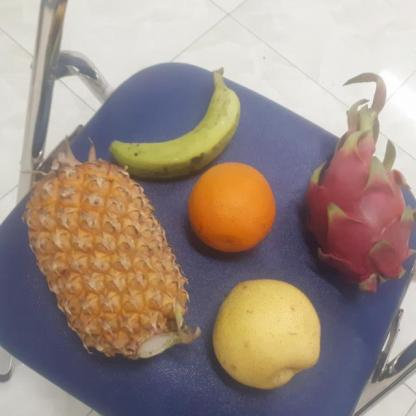banana: (104, 74, 240, 178)
orange: (183, 162, 280, 256)
pear: (206, 281, 326, 394)
pineapple: (20, 164, 194, 357)
pitaya: (300, 141, 416, 300)
